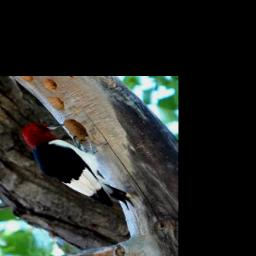Woodpecker: (24, 121, 138, 210)
